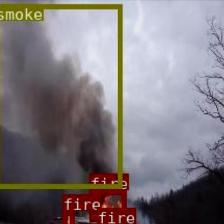fire: (89, 189, 125, 221), (61, 210, 73, 224)
smoke: (0, 3, 121, 188)
